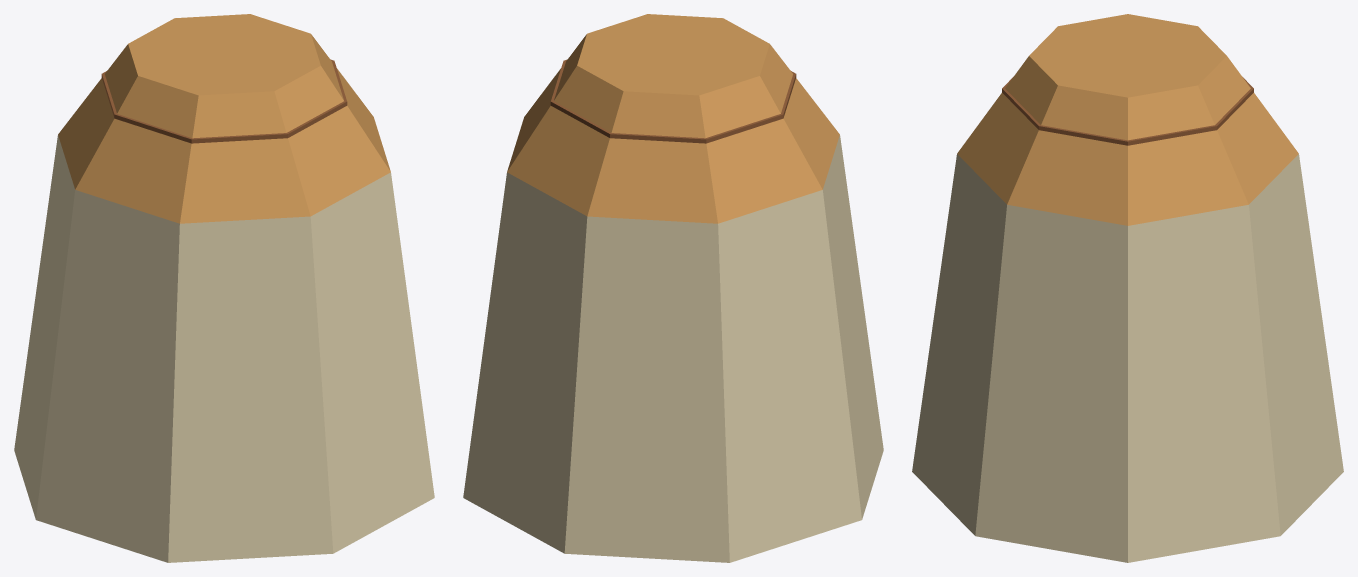
Rendered from reused_grain_sack.glb.
3 views of the same model, side by side, from view 1: azimuth 30°, elevation 25°; view 2: azimuth 150°, elevation 25°; view 3: azimuth 270°, elevation 25° (orthographic).
Visible parts, largest first — view 1: grain_sack__wool.001, grain_sack__wood3.001, grain_sack__wood.001; view 2: grain_sack__wool.001, grain_sack__wood3.001, grain_sack__wood.001; view 3: grain_sack__wool.001, grain_sack__wood3.001, grain_sack__wood.001.
Boxes of the visible parts, left/top/right/bottom form: grain_sack__wool.001: left=14, top=135, right=434, bottom=562; grain_sack__wood3.001: left=58, top=14, right=390, bottom=223; grain_sack__wood.001: left=101, top=59, right=347, bottom=143; grain_sack__wool.001: left=463, top=135, right=883, bottom=562; grain_sack__wood3.001: left=507, top=14, right=839, bottom=223; grain_sack__wood.001: left=550, top=59, right=796, bottom=143; grain_sack__wool.001: left=912, top=154, right=1343, bottom=562; grain_sack__wood3.001: left=957, top=14, right=1298, bottom=225; grain_sack__wood.001: left=1002, top=77, right=1253, bottom=145.
Size of the model in its own units: 0.48 by 0.51 by 0.48.
